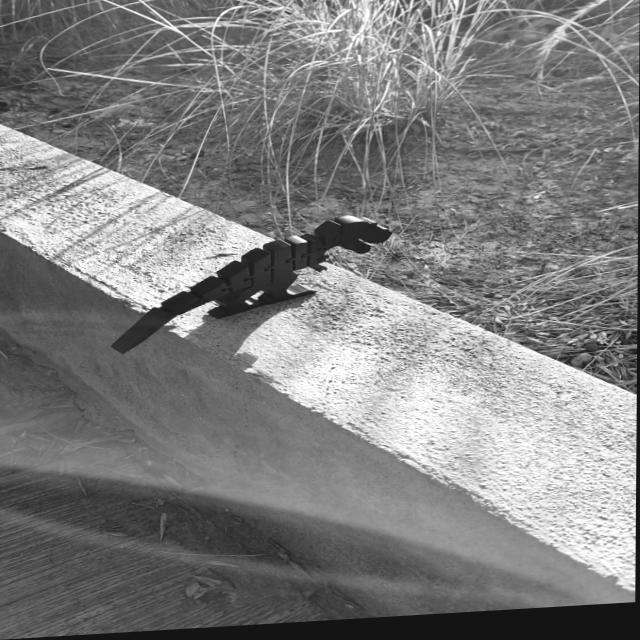dino: (108, 212, 394, 356)
